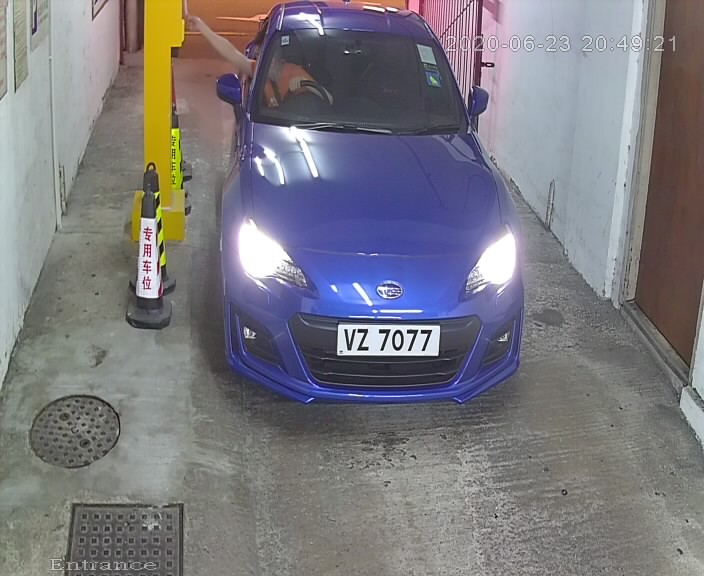privatecar: (202, 1, 530, 415)
